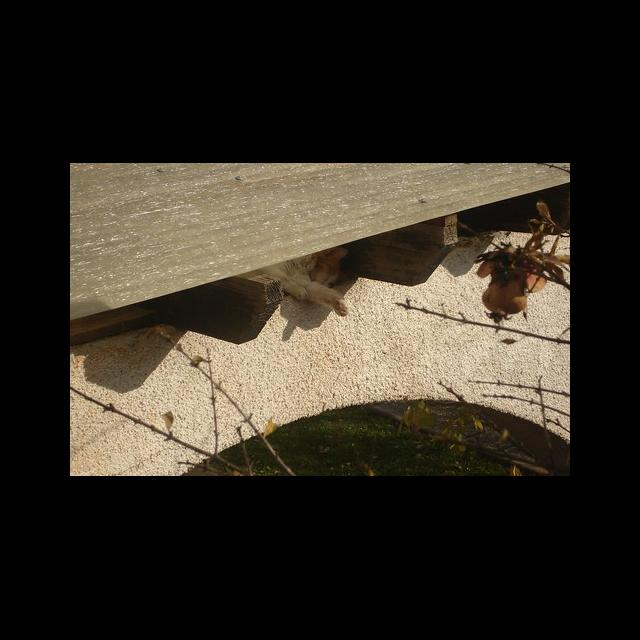animals: (253, 247, 351, 317)
